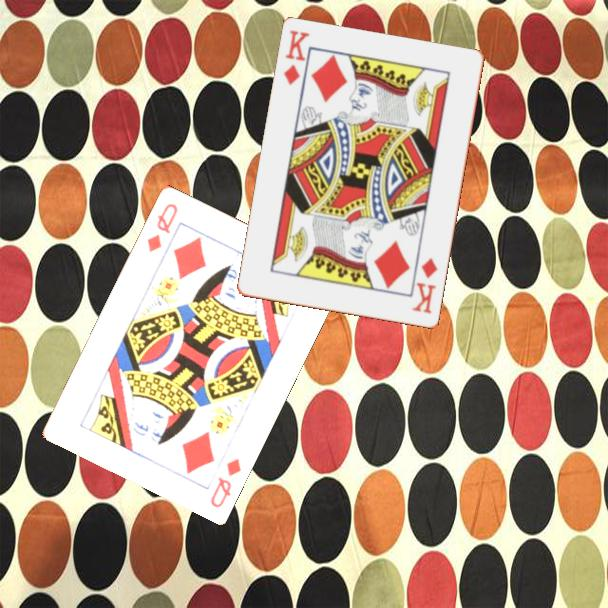d12: (206, 454, 244, 510), (144, 199, 180, 255)
d13: (409, 255, 441, 317), (280, 27, 312, 88)
